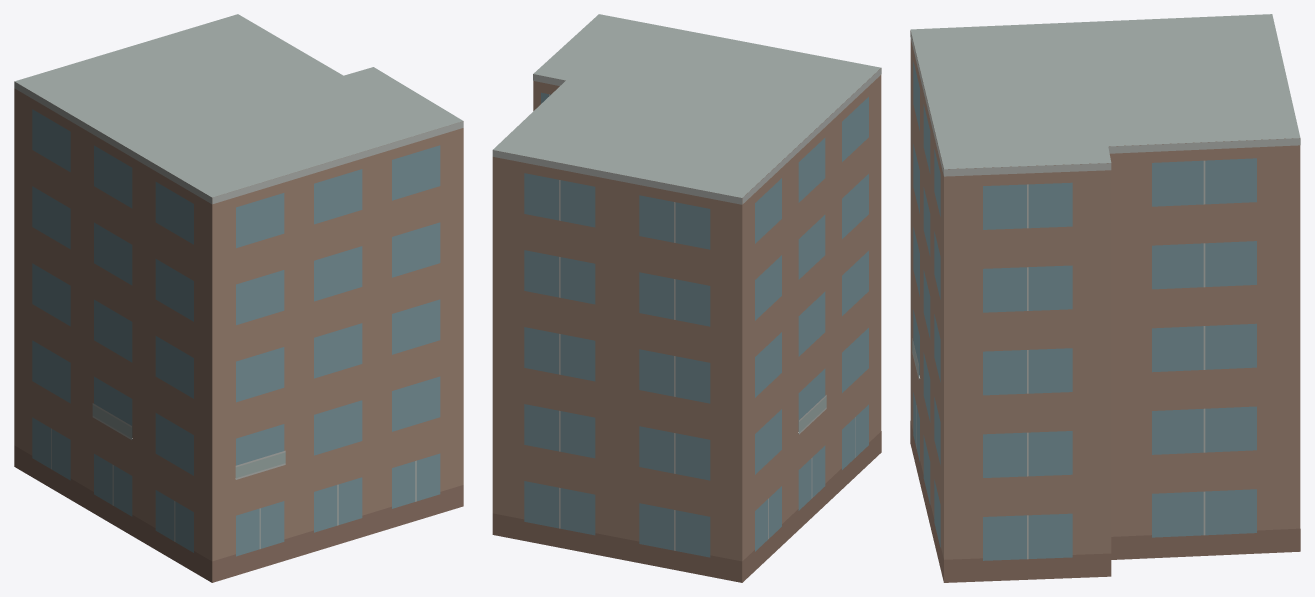
File: survey-upis-32604757.glb
3 renders of one model, left to right at view 1: azimuth 30°, elevation 25°; view 2: azimuth 150°, elevation 25°; view 3: azimuth 270°, elevation 25°, orthographic. The views are drawn at different scales.
Parts seen in each view (by area): view 1: survey-upis-32604757.tmp; view 2: survey-upis-32604757.tmp; view 3: survey-upis-32604757.tmp.
Part boxes in pixels (x1,y1,x2,y2): survey-upis-32604757.tmp: (14, 14, 463, 582); survey-upis-32604757.tmp: (492, 14, 881, 582); survey-upis-32604757.tmp: (910, 14, 1300, 582).
Bounding box in the file's own units: 11.12 × 13.8 × 11.81.
